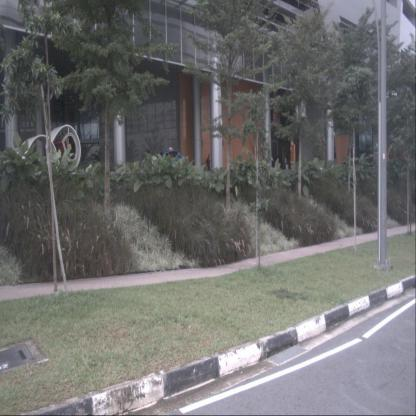human-pedestrian-adult: (206, 152, 211, 174)
vehicle-car: (156, 148, 188, 172)
